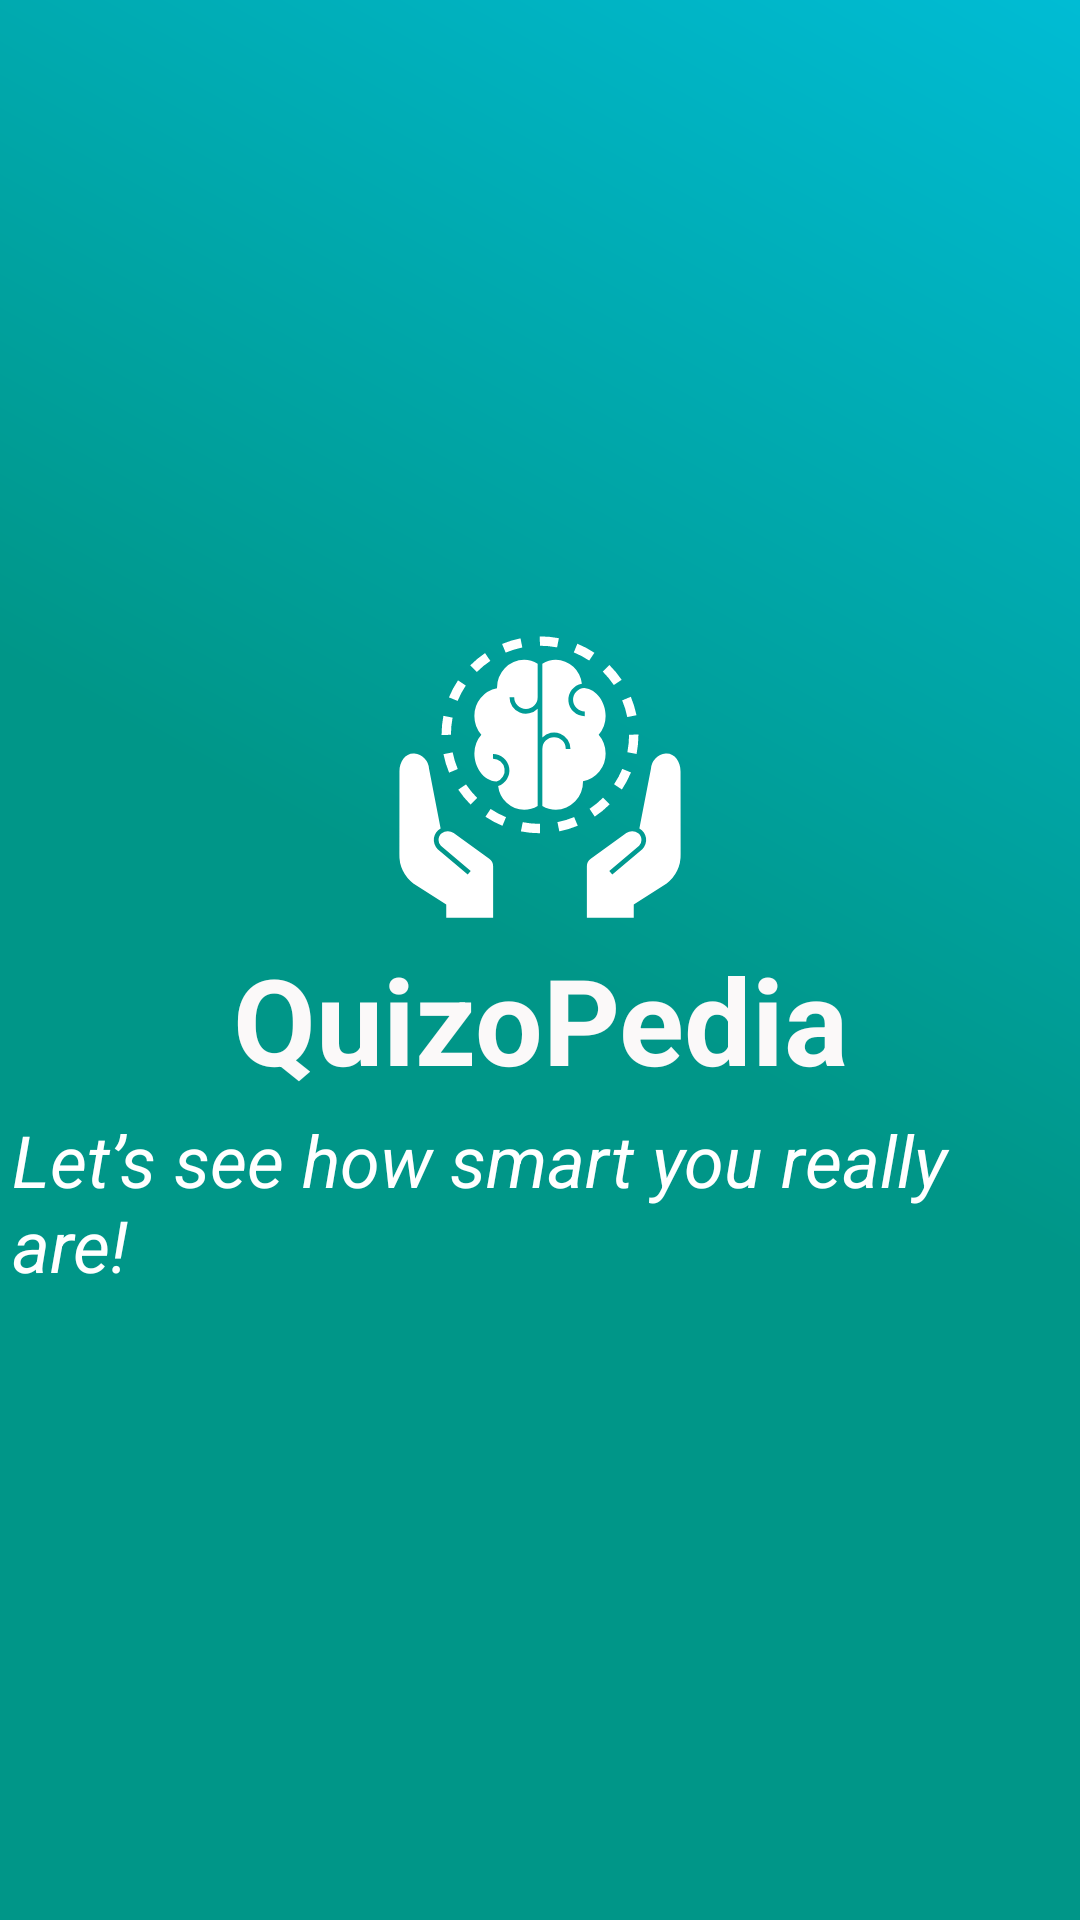

Named icons in this screenshot (1080 × 1920) and their centers, (x,y):
brain guru intellectual: (540,772)
